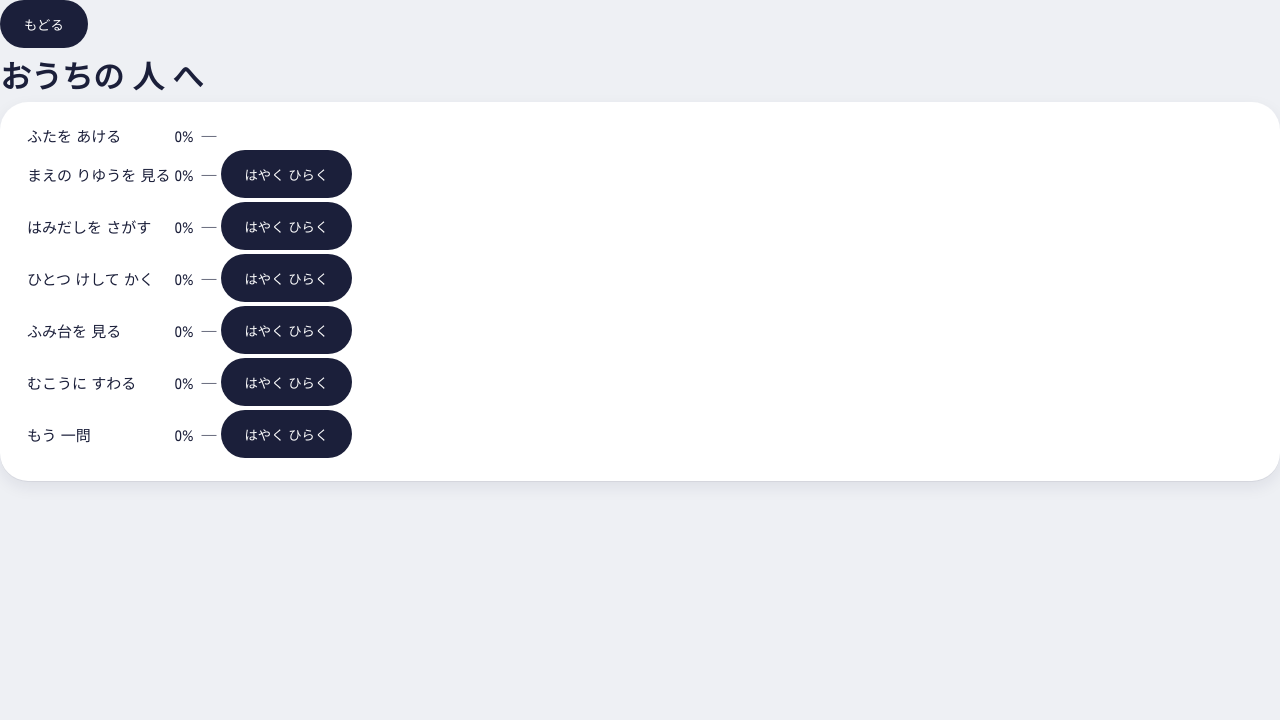
Test: BeginnerParentScreen — 「はやく ひらく」 confirmation (WO-C9) › tapping 「はやく ひらく」 opens a dialog instead of unlocking immediately
Click the button "はやく ひらく" in the row of "まえの りゆうを 見る" at (286, 174), box [220, 150, 352, 198]
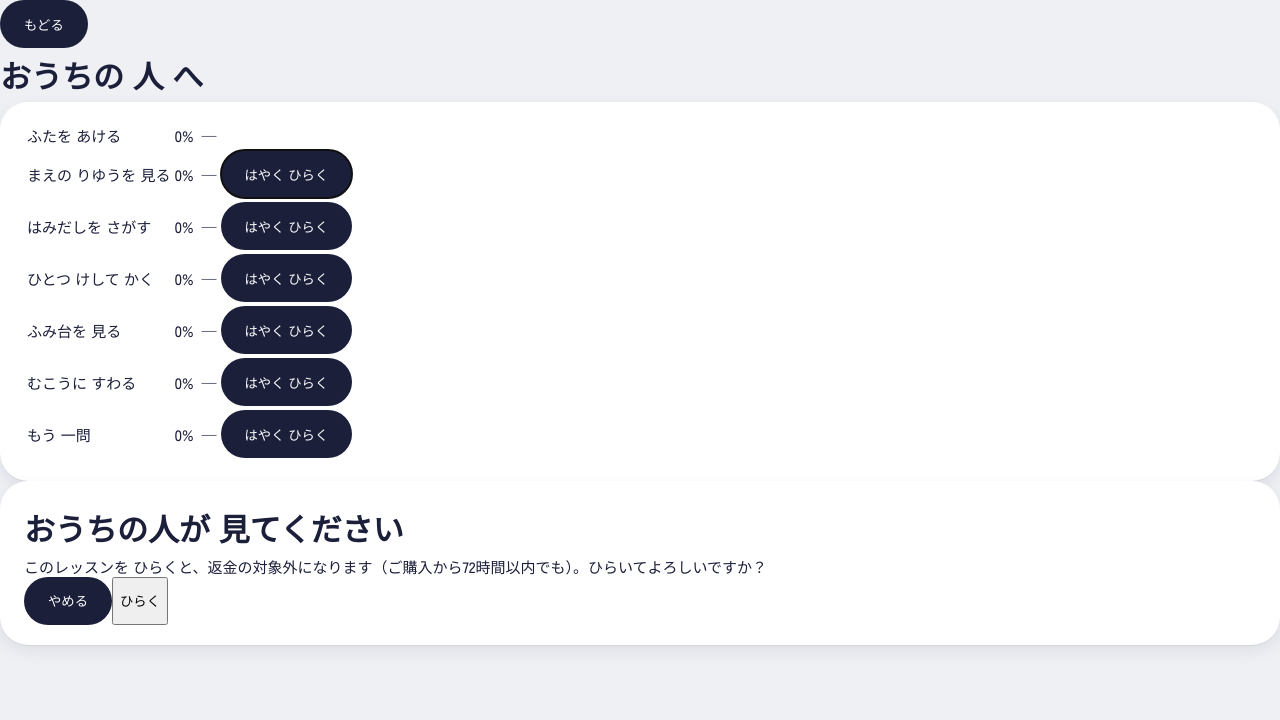
Now the heading "おうちの人が 見てください" is shown, box [24, 505, 404, 550]
Now the text "このレッスンを ひらくと、返金の対象外になります（ご購入から72時間以内でも）。ひらいてよろしいですか？" is shown, box [24, 556, 767, 576]
